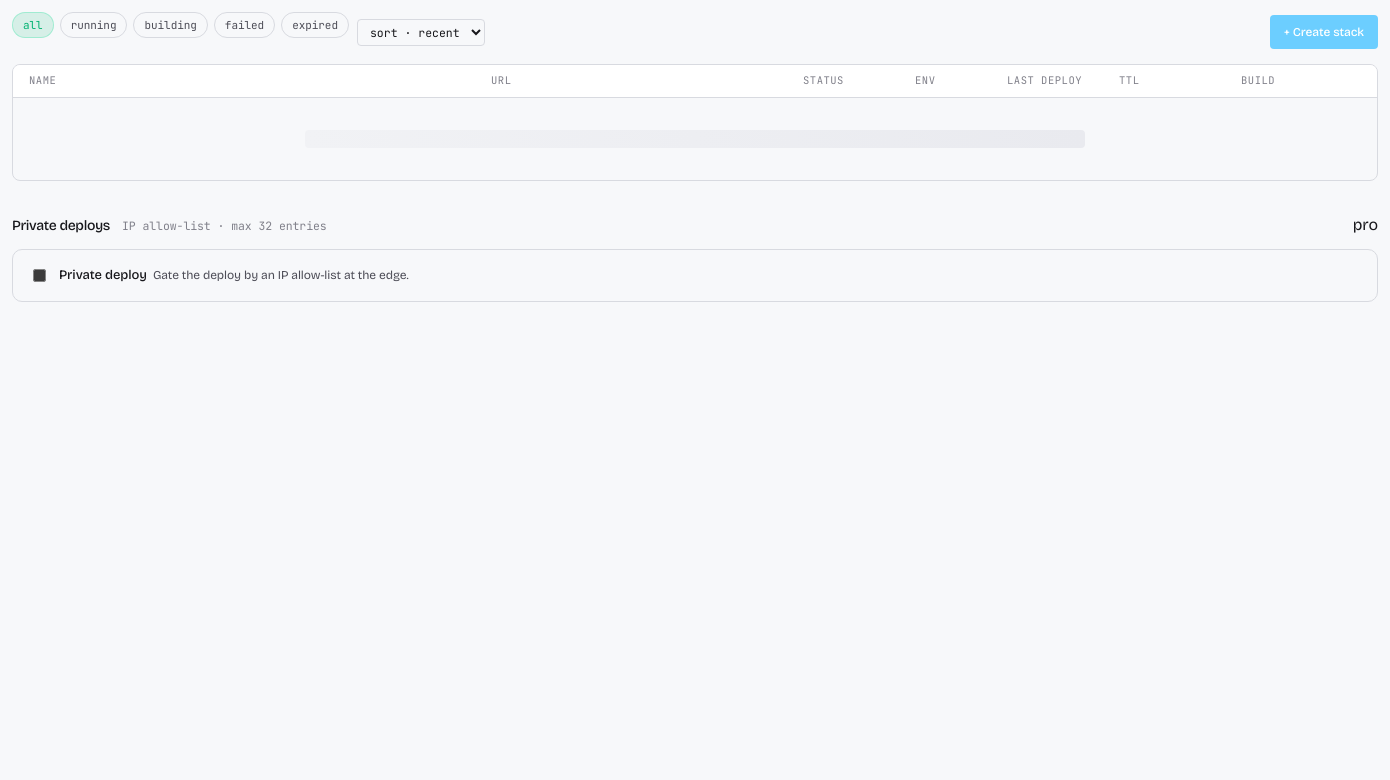
Test: DeploymentsPage — private deploy section, tier-gated › toggling Private off hides the IP allow-list again
Expected: the element with test id "private-deploy-configurator" is shown, top-left (12, 249), bottom-right (1378, 302)
Click the checkbox with test id "private-toggle" at (40, 276), box top-left (33, 269), bottom-right (46, 282)
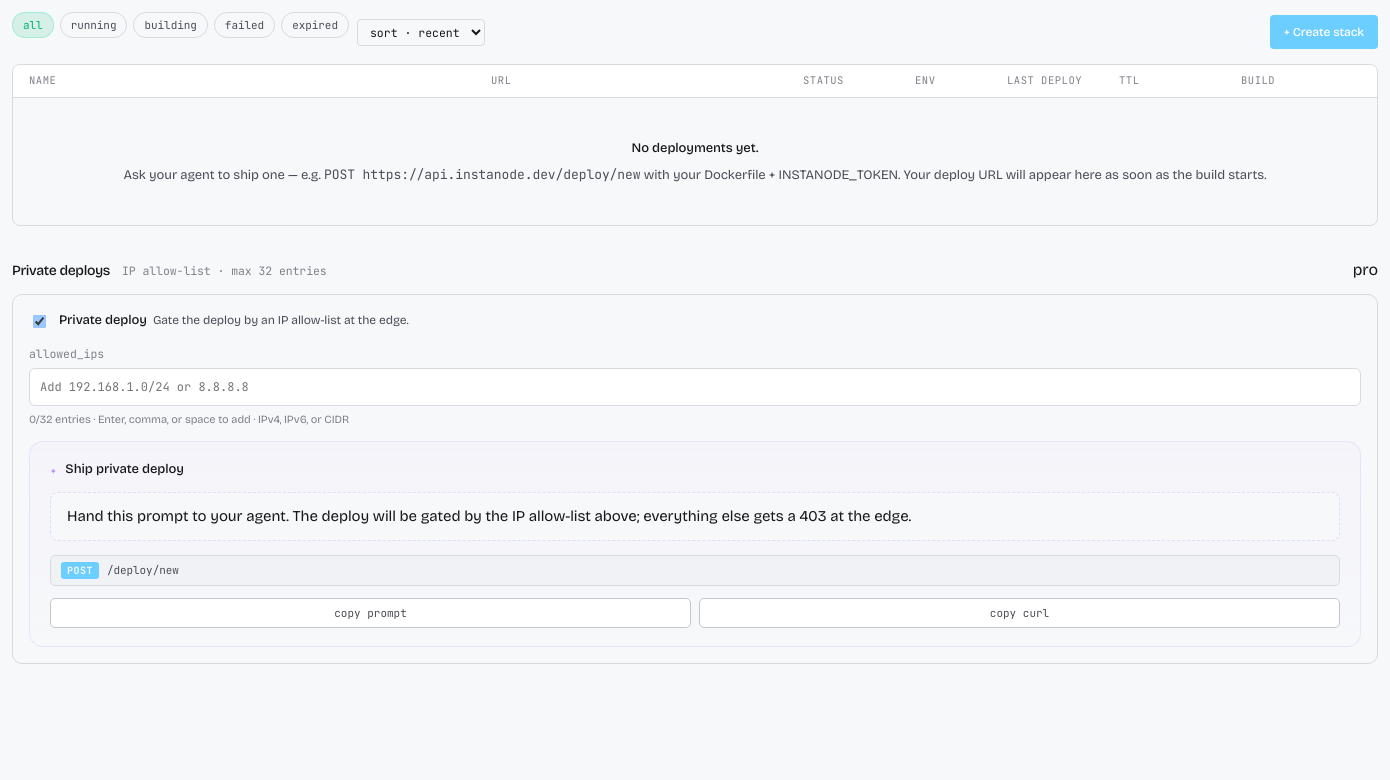
Now the element with test id "ip-allow-list" is shown, box top-left (29, 368), bottom-right (1361, 428)
Click the checkbox with test id "private-toggle" at (40, 321), box top-left (33, 315), bottom-right (46, 328)
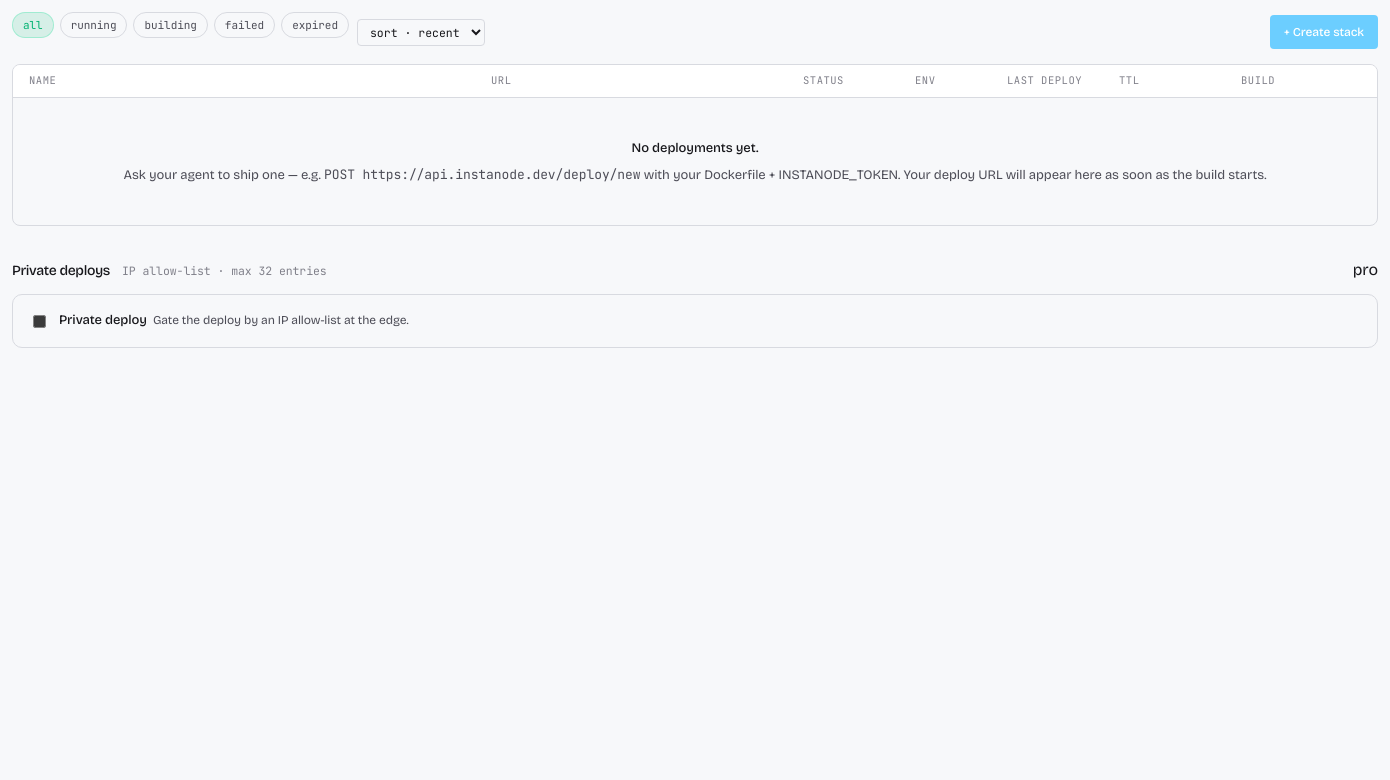
Now the checkbox with test id "private-toggle" is not checked, box top-left (33, 315), bottom-right (46, 328)
Now the element with test id "ip-allow-list" is gone
